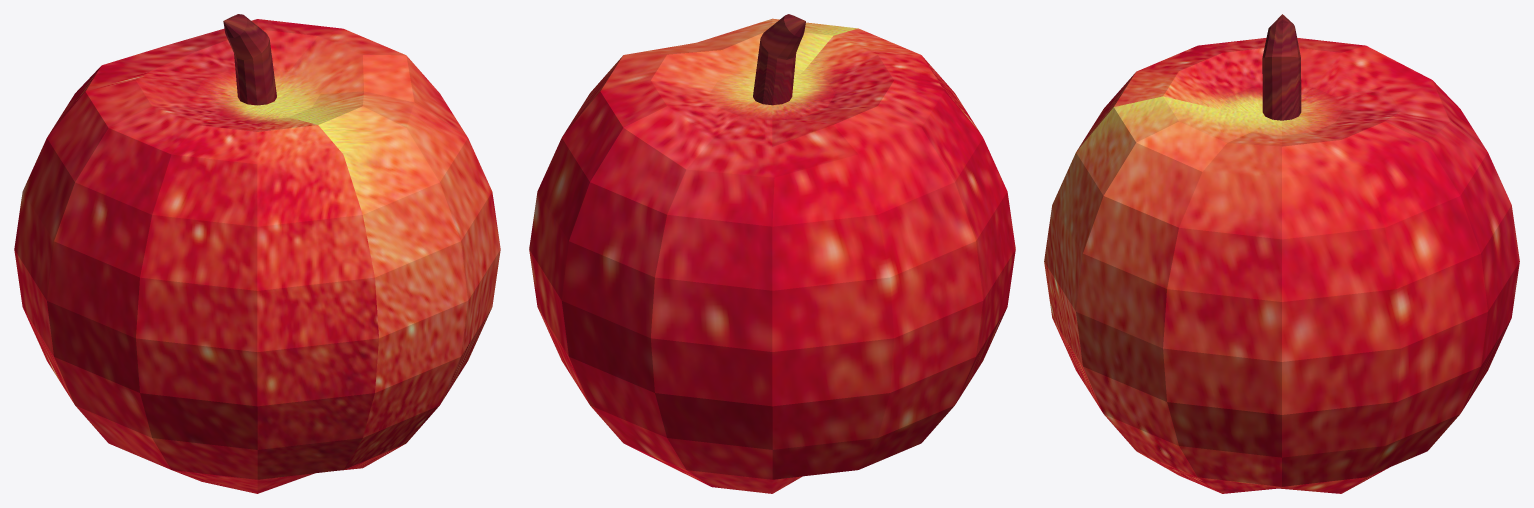
File: Apple_2.fbx
3 views of the same model, side by side, from view 1: azimuth 30°, elevation 25°; view 2: azimuth 150°, elevation 25°; view 3: azimuth 270°, elevation 25° (orthographic). The views are drawn at different scales.
Parts seen in each view (by area): view 1: Sphere; view 2: Sphere; view 3: Sphere.
Boxes of the visible parts, x1,y1,x2,y2 form: Sphere: (14,14,500,493); Sphere: (529,14,1015,493); Sphere: (1044,14,1519,493).
Bounding box in the file's own units: 344 × 336 × 344.
